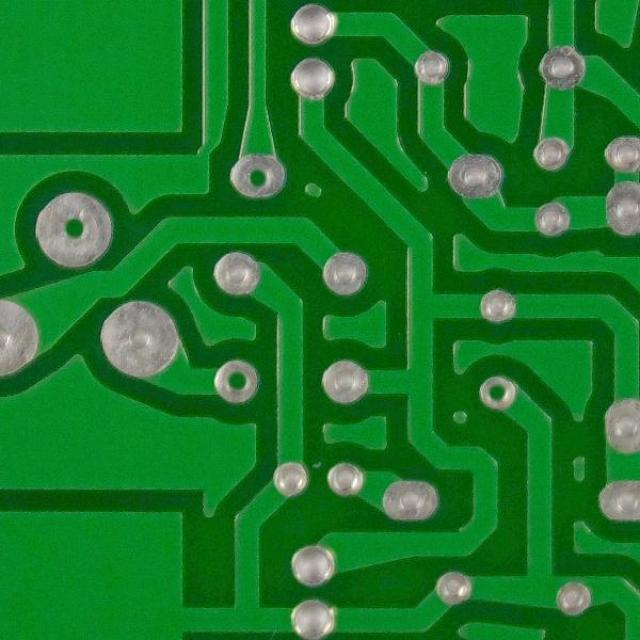Missing_Hole: (35, 195, 112, 266), (225, 152, 290, 202), (210, 358, 265, 407), (476, 373, 522, 413)
